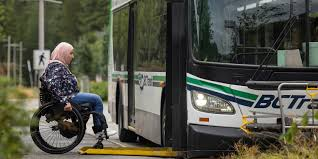bus: (107, 1, 318, 159)
